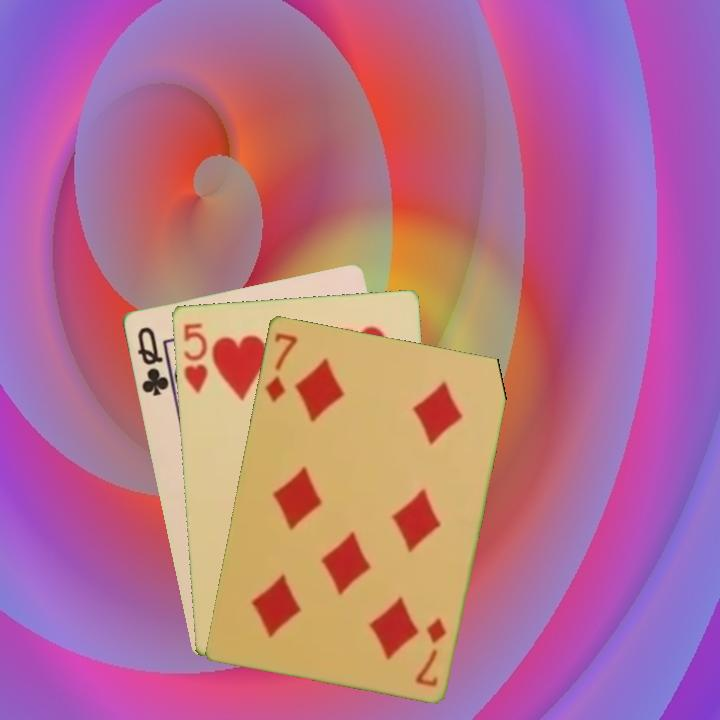5h: (179, 319, 210, 395)
7d: (261, 329, 300, 405), (412, 613, 449, 689)
Qc: (133, 323, 172, 399)
